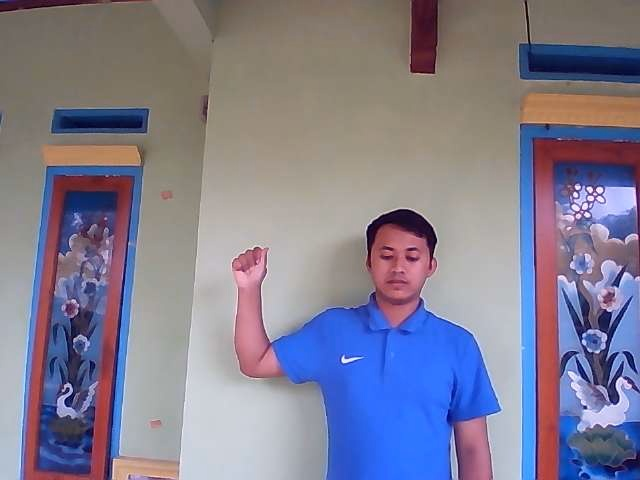A: (230, 245, 270, 288)
